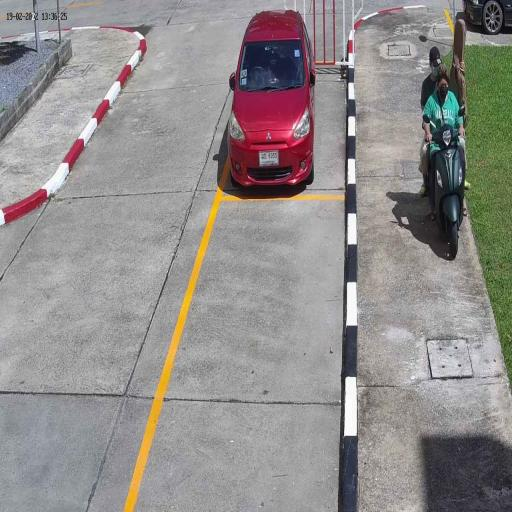car: (226, 8, 317, 192)
motorcycle: (432, 124, 467, 260)
